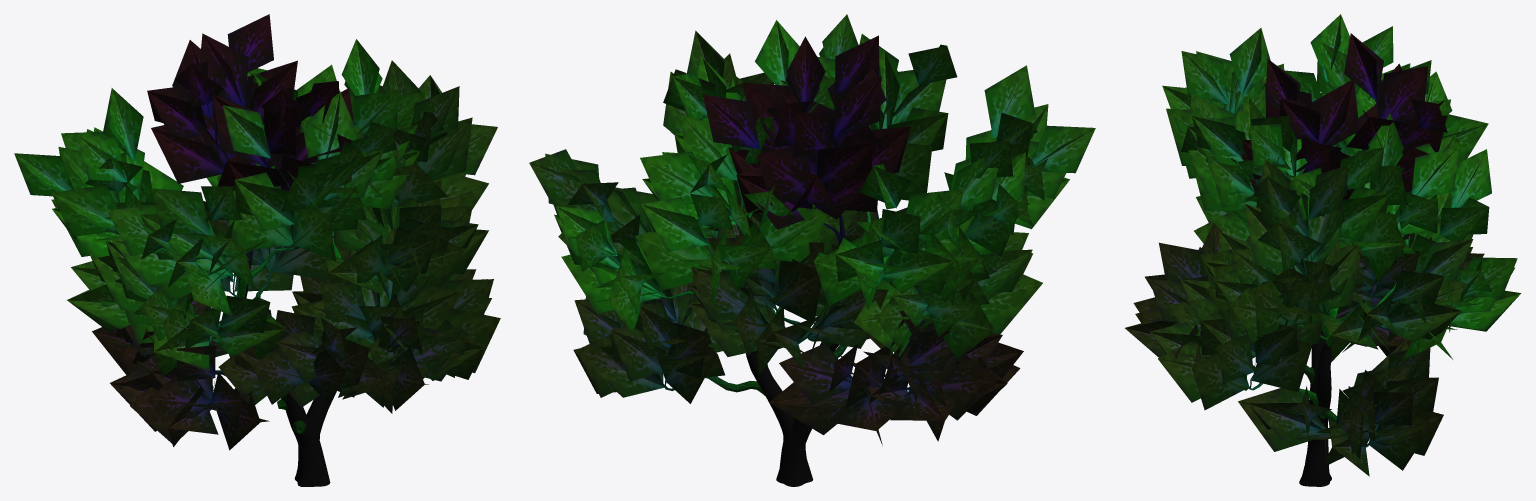
Rendered from oak.glb.
3 views of the same model, side by side, from view 1: azimuth 30°, elevation 25°; view 2: azimuth 150°, elevation 25°; view 3: azimuth 270°, elevation 25° (orthographic). The views are drawn at different scales.
Visible parts, largest first — view 1: tree; view 2: tree; view 3: tree.
Boxes of the visible parts, x1,y1,x2,y2 form: tree: (14,14,500,486); tree: (529,14,1095,486); tree: (1125,14,1521,486).
Bounding box in the file's own units: 6 × 5.21 × 4.69.
Materials: 3 (3 with a texture image).
